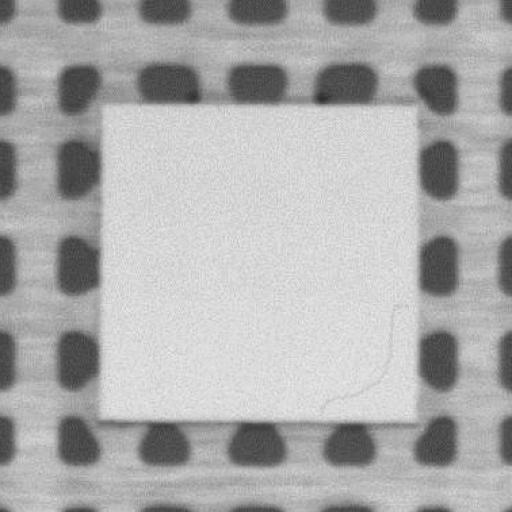DIE_CRACK: (320, 303, 398, 409)
